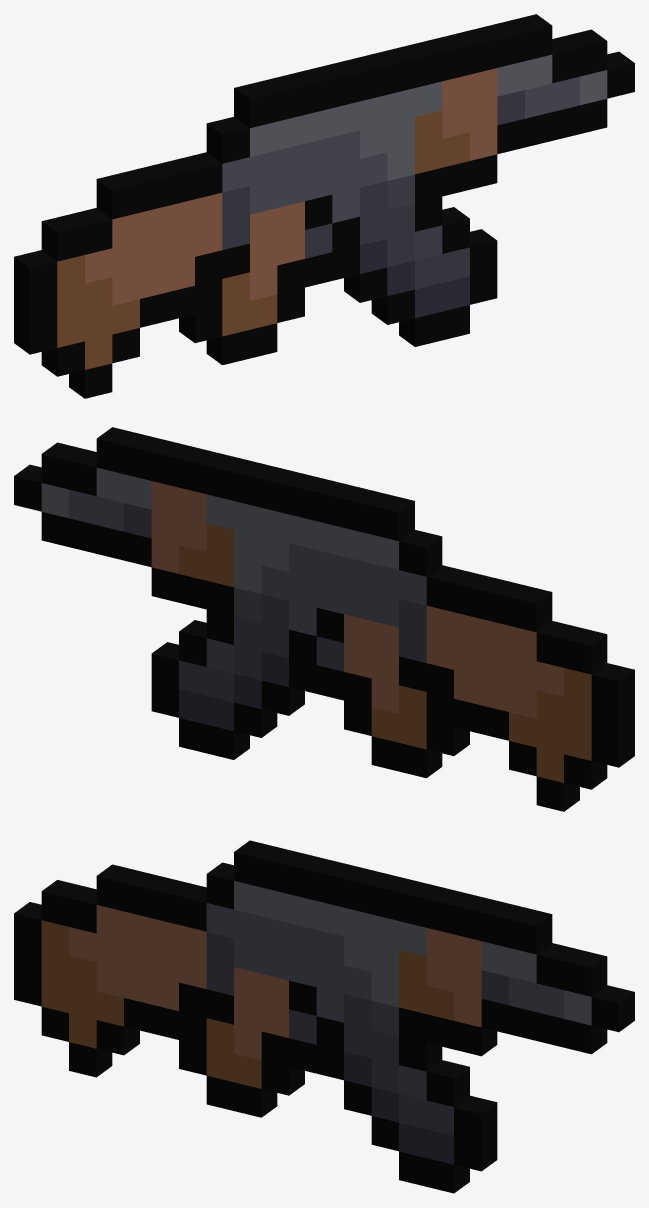
The picture shows the model from 3 angles, top to bottom: view 1: azimuth 30°, elevation 25°; view 2: azimuth 150°, elevation 25°; view 3: azimuth 330°, elevation 25°; orthographic projection.
Parts seen in each view (by area): view 1: generated(Clone); view 2: generated(Clone); view 3: generated(Clone).
Boxes of the visible parts, left/top/right/bottom form: generated(Clone): left=14, top=14, right=634, bottom=398; generated(Clone): left=14, top=427, right=634, bottom=811; generated(Clone): left=14, top=840, right=634, bottom=1193.
Bounding box in the file's own units: 22 × 10 × 1.
Materials: 1 (1 with a texture image).
